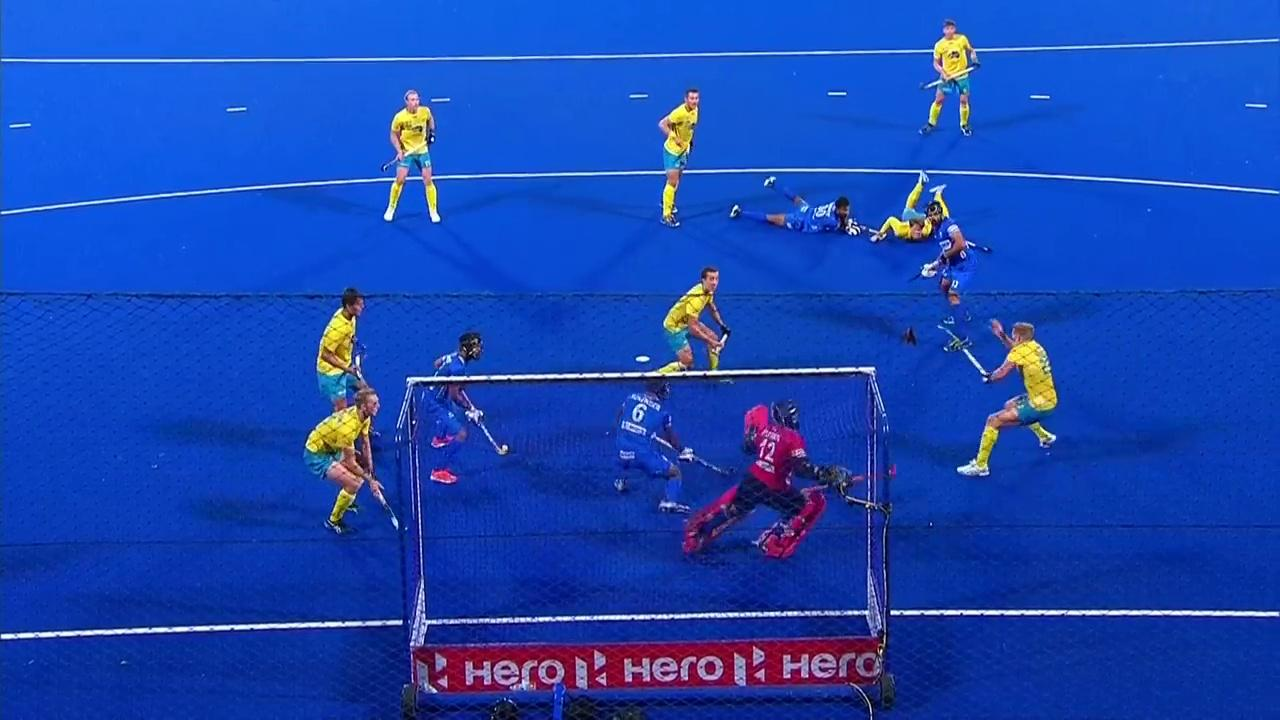ball: (633, 352, 655, 370)
